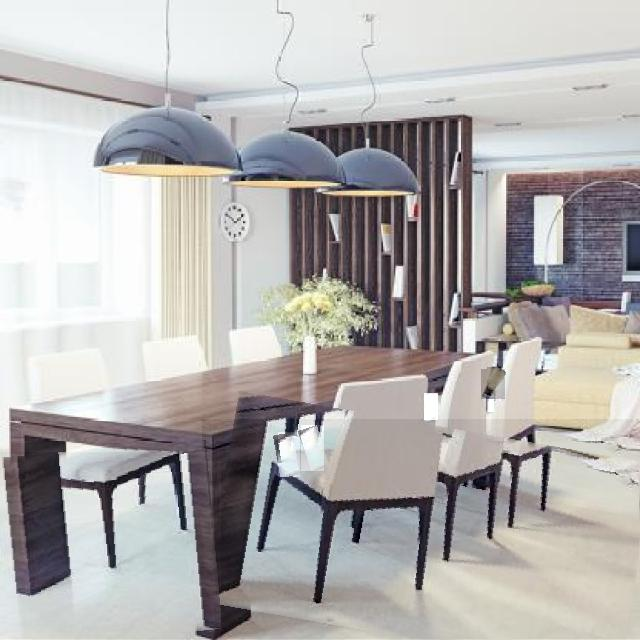floor: (202, 419, 640, 640), (0, 453, 221, 640), (302, 425, 324, 471), (279, 432, 300, 477), (481, 369, 505, 399), (424, 393, 438, 420), (487, 368, 501, 391), (425, 411, 437, 433), (488, 394, 494, 412)
